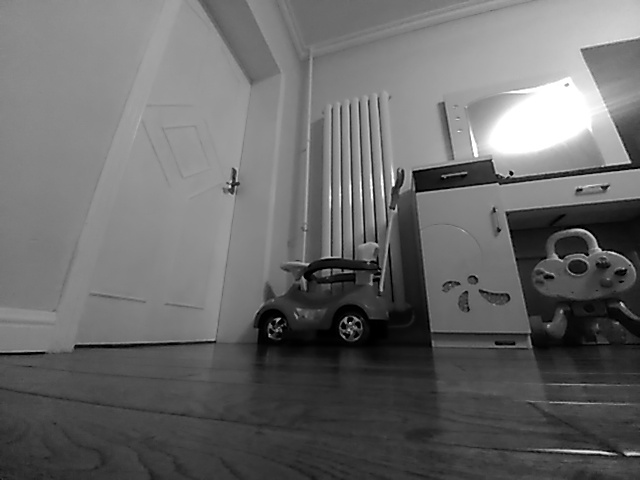toy: (252, 279, 417, 349), (531, 281, 640, 343)
